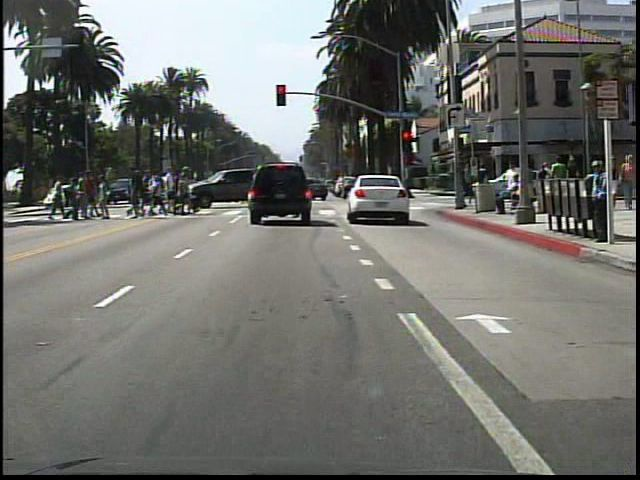person: (583, 156, 609, 244), (617, 151, 635, 212)
